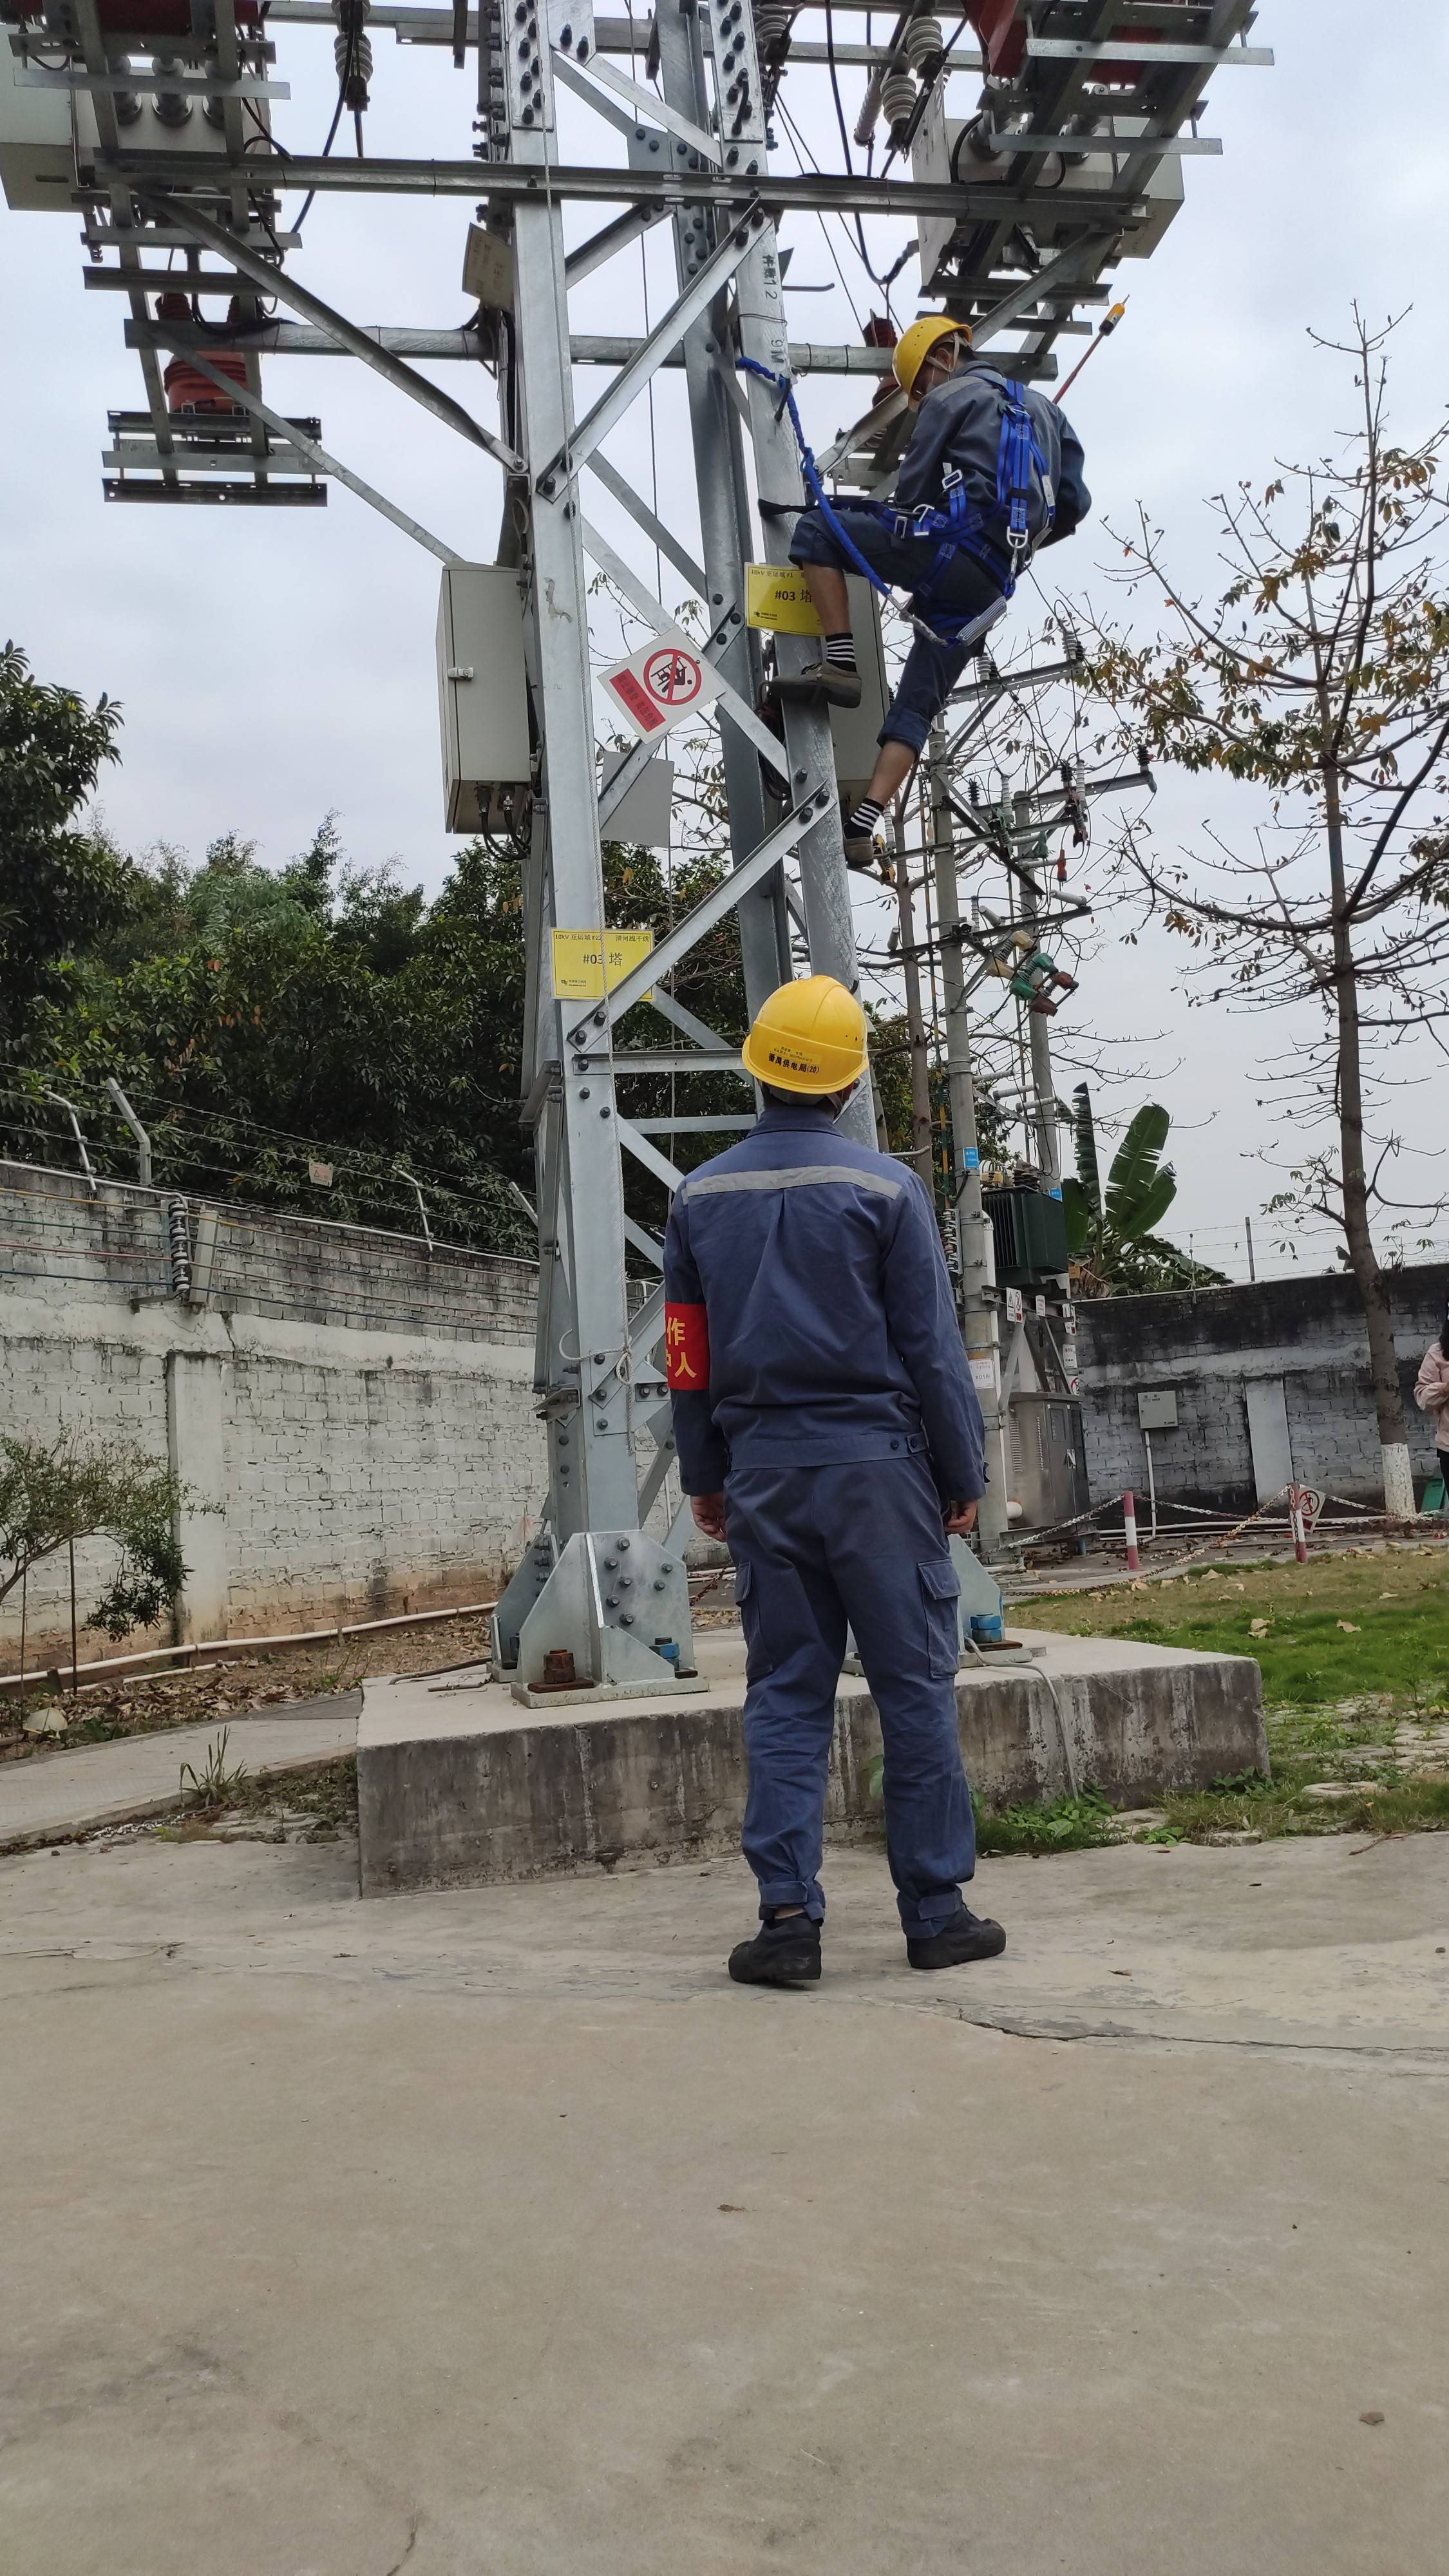downsuit: (718, 1504, 996, 1927), (793, 499, 1014, 750)
upsuit: (651, 1122, 982, 1477), (909, 368, 1083, 543)
wrongbottom: (793, 541, 858, 653), (867, 713, 932, 814)
